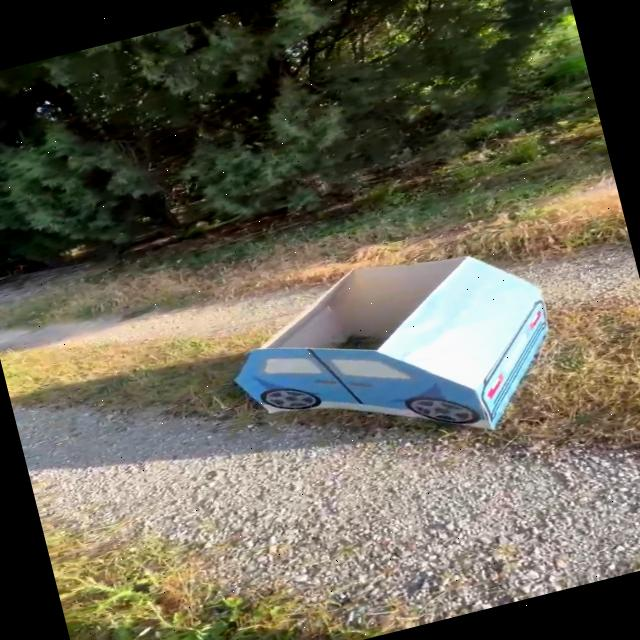blue_car: (173, 186, 617, 514)
